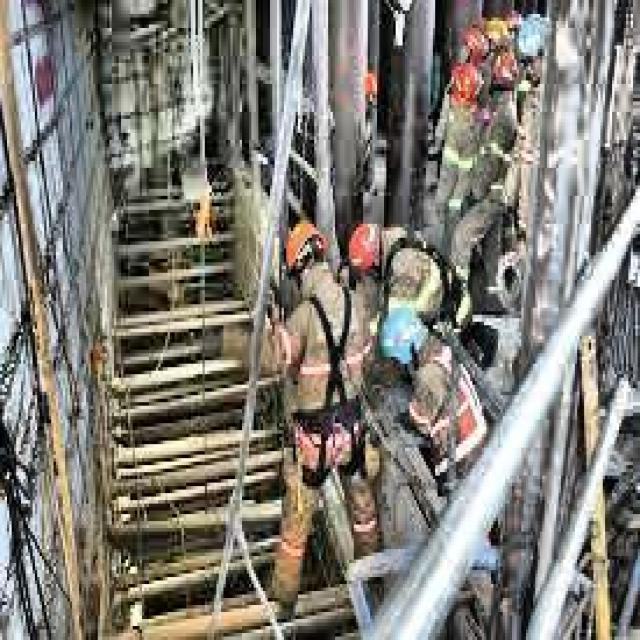belt: (286, 286, 370, 476), (379, 220, 456, 343), (409, 370, 488, 480)
